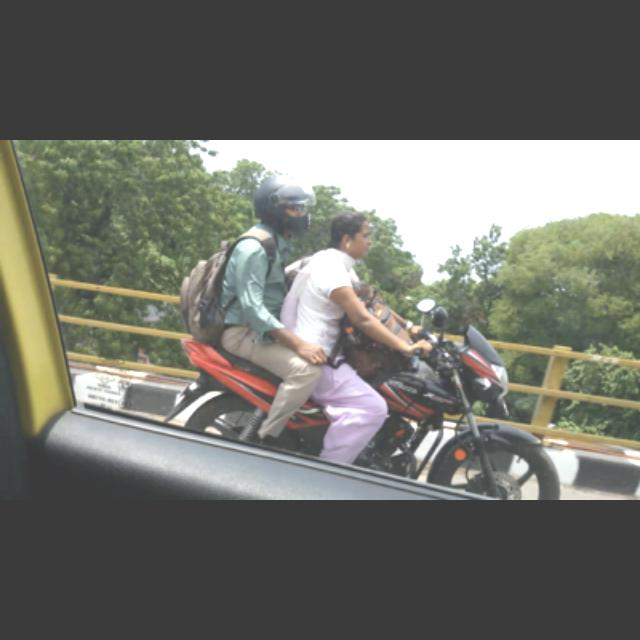Without Helmet: (326, 206, 386, 264)
